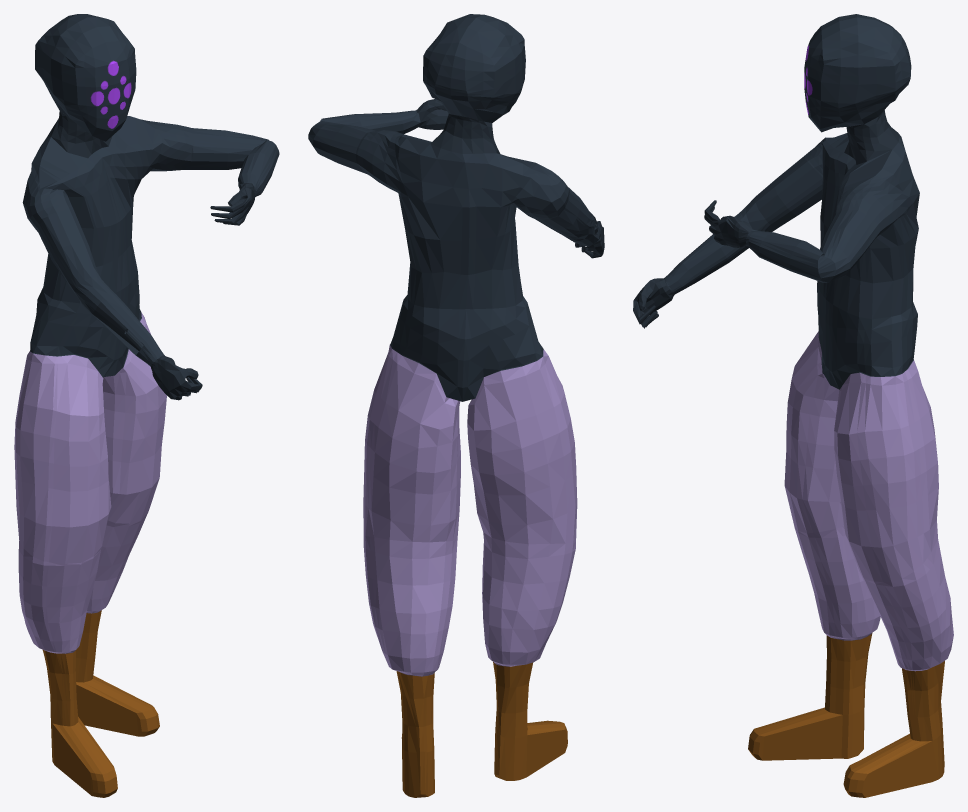
The model's file is Oracle_Reload_000004.obj.
3 views of the same model, side by side, from view 1: azimuth 30°, elevation 25°; view 2: azimuth 150°, elevation 25°; view 3: azimuth 270°, elevation 25° (orthographic). The views are drawn at different scales.
Visible parts, largest first — view 1: Cube; view 2: Cube; view 3: Cube.
Part boxes in pixels (x1,y1,x2,y2): Cube: [14, 14, 279, 797]; Cube: [308, 14, 604, 797]; Cube: [633, 14, 953, 797].
Bounding box in the file's own units: 1.42 × 3.94 × 1.52.
